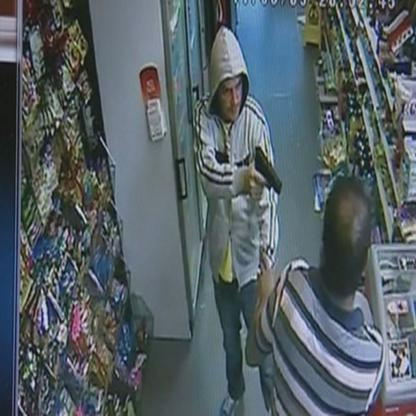pistols: (248, 142, 285, 218)
